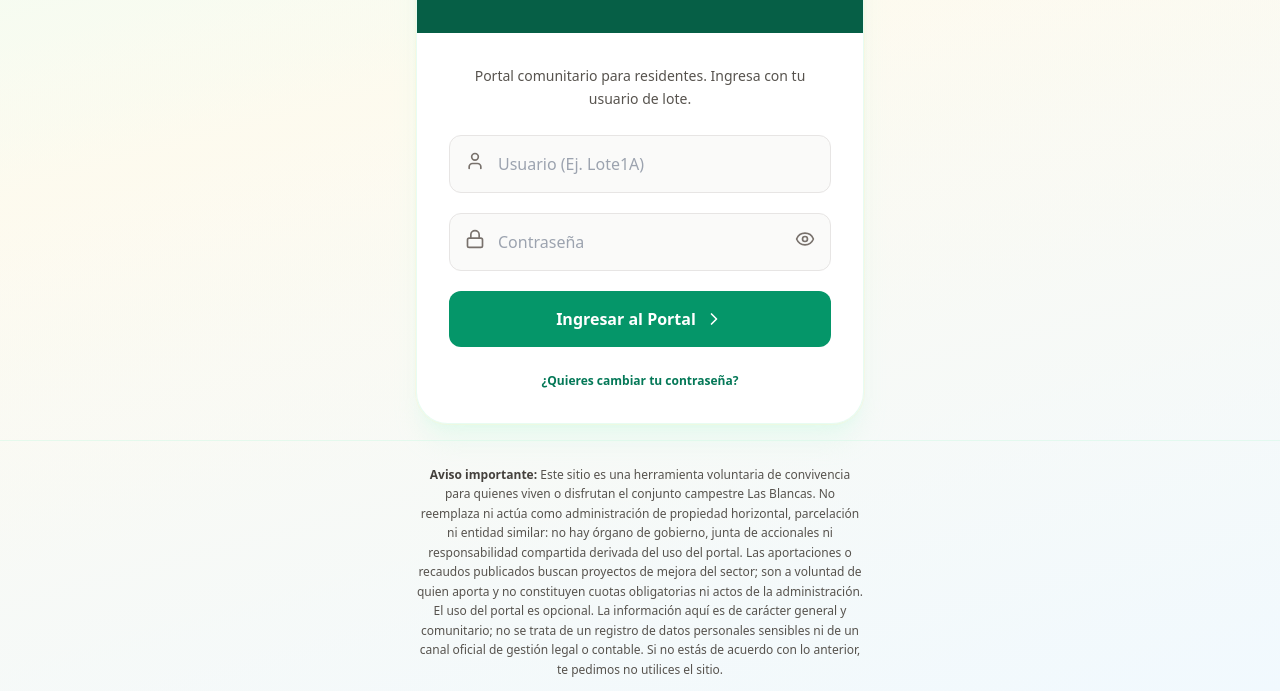
Scenario: LoginView — modo cambiar contraseña › cambia al modo de cambio de contraseña al hacer click en el enlace
(page scrolled)
Click the button "¿Quieres cambiar tu contraseña?" at (640, 380), box [449, 372, 831, 388]
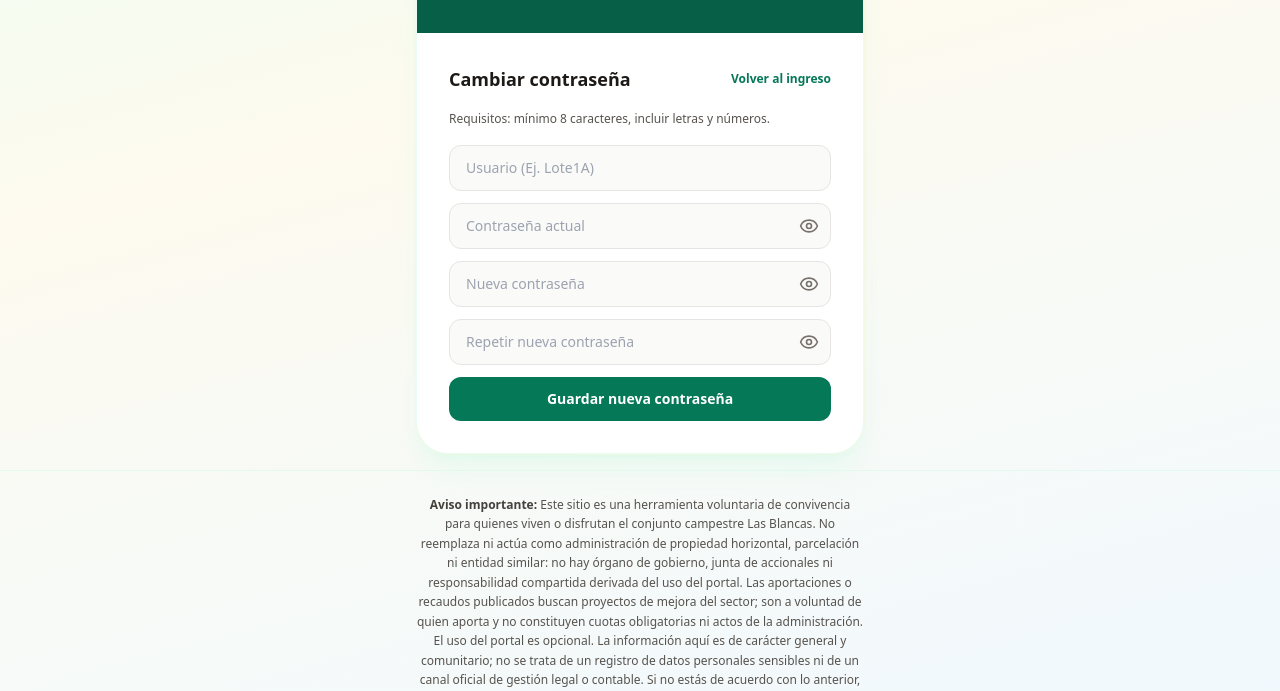
Expected: the heading "Cambiar contraseña" is shown, [449, 65, 631, 93]
Expected: the button "Volver al ingreso" is shown, [731, 71, 831, 87]
